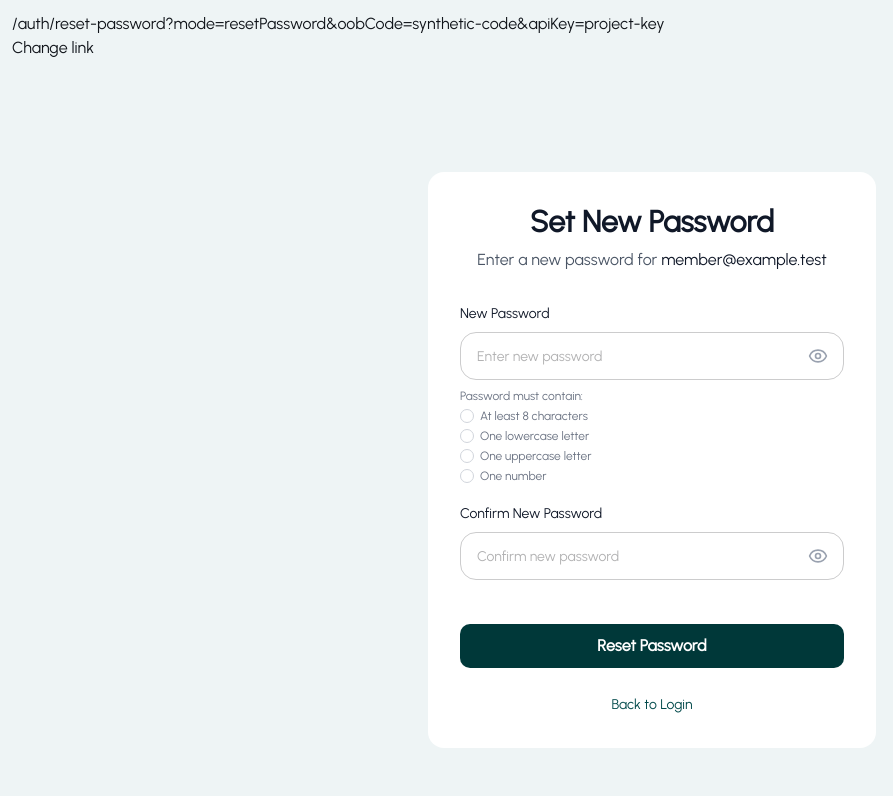
Test: removes the form if the code becomes unusable at confirmation: auth/invalid-action-code
Type "Secure123" into the password field labelled "New Password".
click(652, 356); type("Secure123")  # box [460,332,844,380]
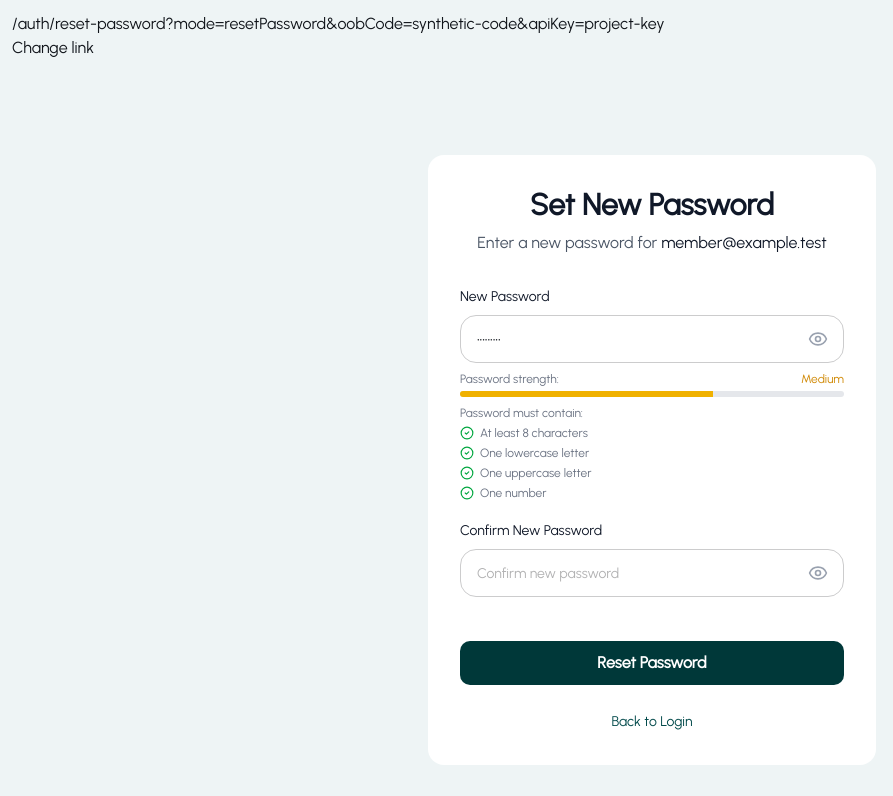
Type "Secure123" into the password field labelled "Confirm New Password".
click(652, 573); type("Secure123")  # box [460,549,844,597]
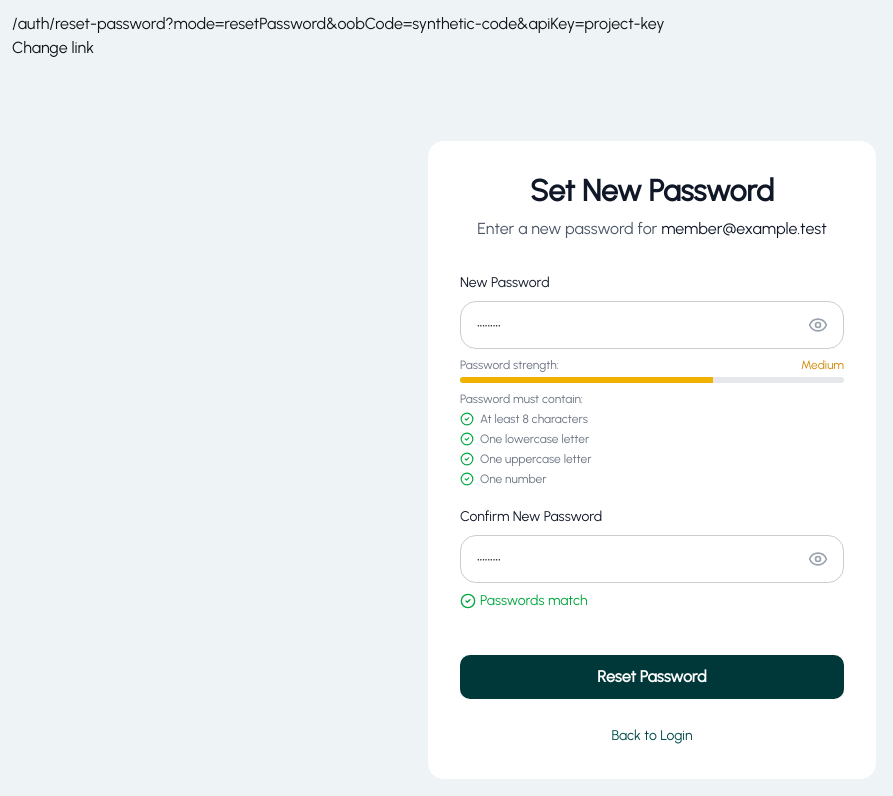
Submit the form labelled "New Password", box [460,273,844,699]
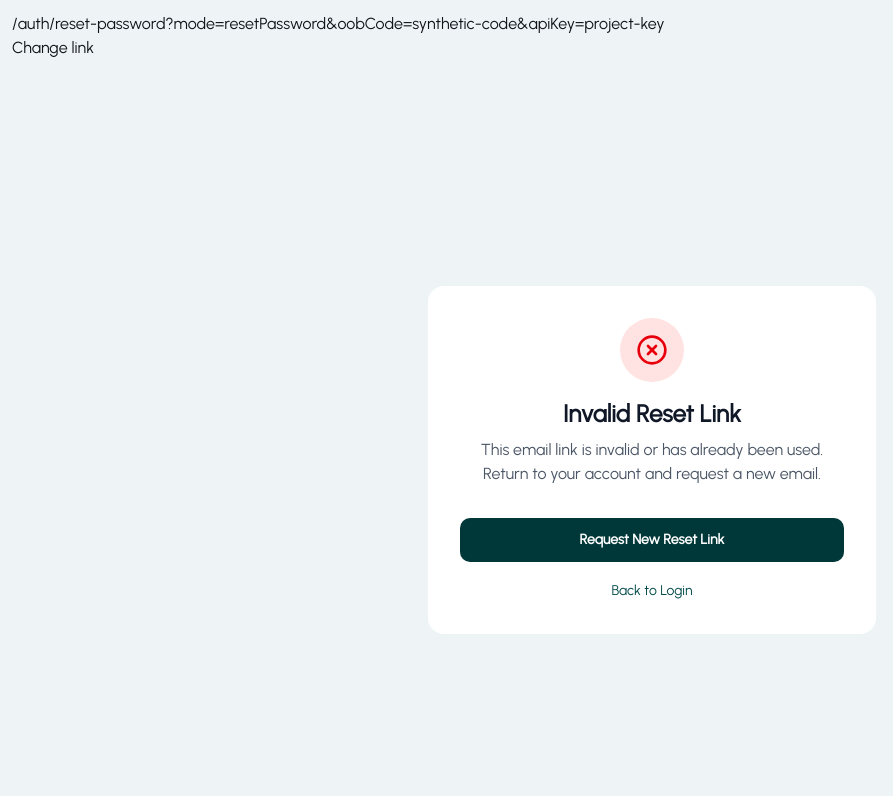
Now the message shows "invalid or has already been used", box [481,440,823,483]
Now the heading labelled "New Password" is gone
